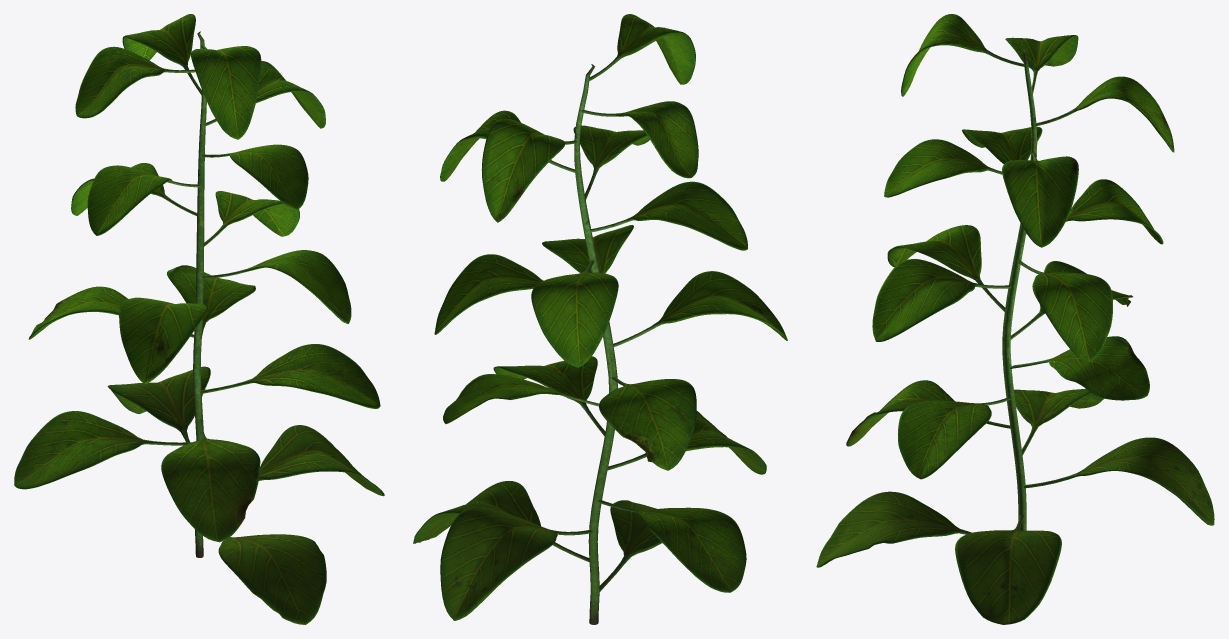
The model's file is plant_-_outdoors.obj.
3 renders of one model, left to right at view 1: azimuth 30°, elevation 25°; view 2: azimuth 150°, elevation 25°; view 3: azimuth 270°, elevation 25°, orthographic. The views are drawn at different scales.
Visible parts, largest first — view 1: obj1; view 2: obj1; view 3: obj1.
Part boxes in pixels (x1,y1,x2,y2): obj1: [14, 14, 384, 624]; obj1: [413, 14, 787, 624]; obj1: [816, 14, 1214, 624].
Size of the model in its own units: 293 by 457 by 307.
1 material, 1 textured.
